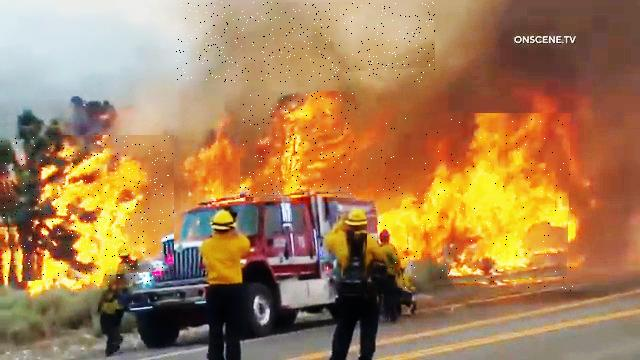fire: (368, 113, 574, 291), (0, 135, 174, 282), (240, 92, 356, 201)
smoke: (177, 2, 438, 82)
